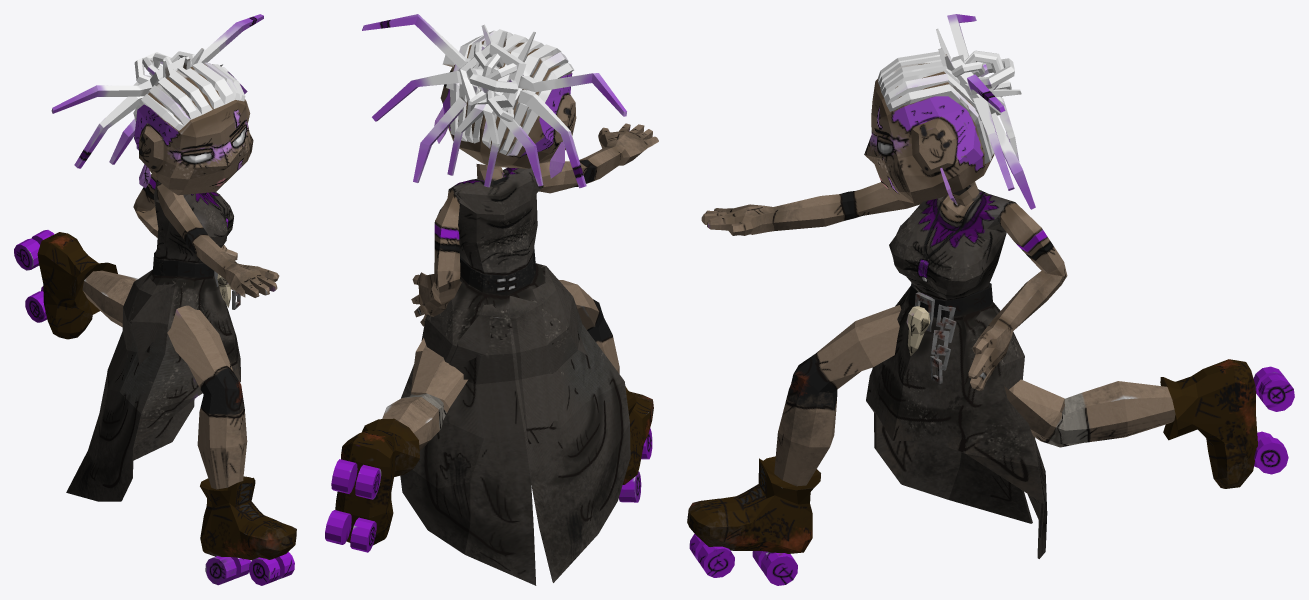
Rendered from bruja_000010.obj.
3 renders of one model, left to right at view 1: azimuth 30°, elevation 25°; view 2: azimuth 150°, elevation 25°; view 3: azimuth 270°, elevation 25°, orthographic. The views are drawn at different scales.
Parts seen in each view (by area): view 1: Bruja_Plane.001; view 2: Bruja_Plane.001; view 3: Bruja_Plane.001.
Part boxes in pixels (x1,y1,x2,y2): Bruja_Plane.001: (14, 14, 296, 585); Bruja_Plane.001: (325, 14, 658, 585); Bruja_Plane.001: (687, 14, 1294, 585).
Bounding box in the file's own units: 7.38 × 14.91 × 14.77.
